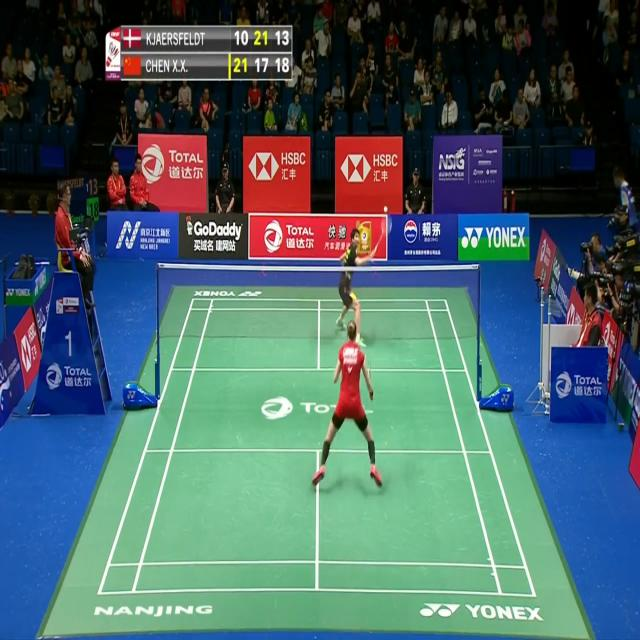Player1: (311, 318, 385, 494)
Player2: (331, 210, 393, 348)
